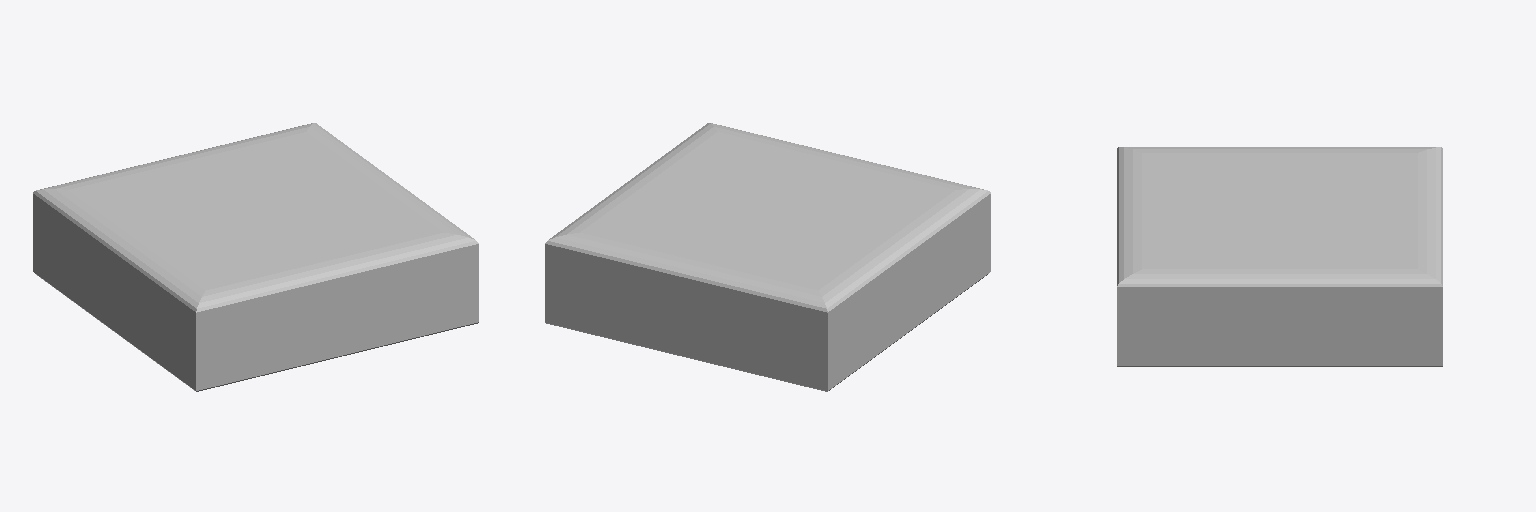
The model's file is circuit.obj.
The picture shows the model from 3 angles: view 1: azimuth 30°, elevation 25°; view 2: azimuth 150°, elevation 25°; view 3: azimuth 270°, elevation 25°; orthographic projection.
Bounding box in the file's own units: 2.89 × 0.8727 × 2.89.